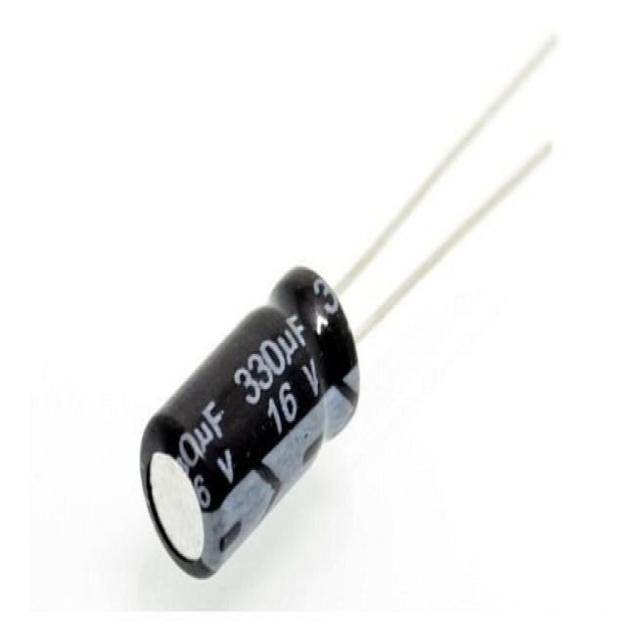Capacitor: (139, 33, 560, 583)
